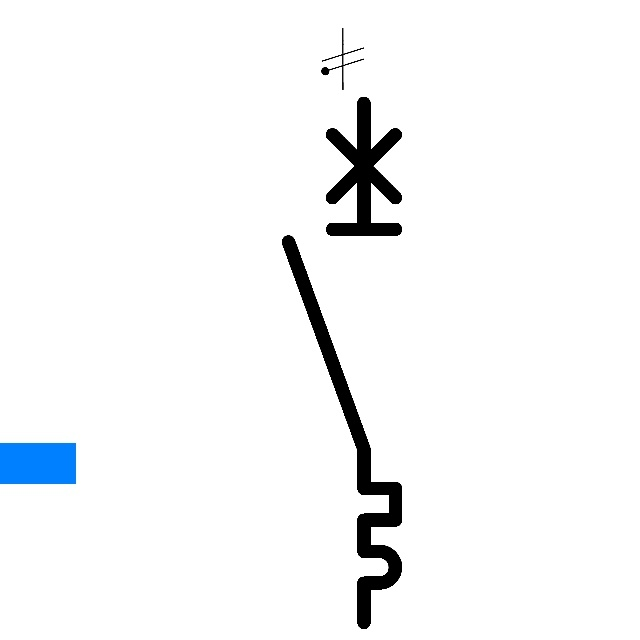interruptor_termomagnetico: (275, 89, 409, 635)
